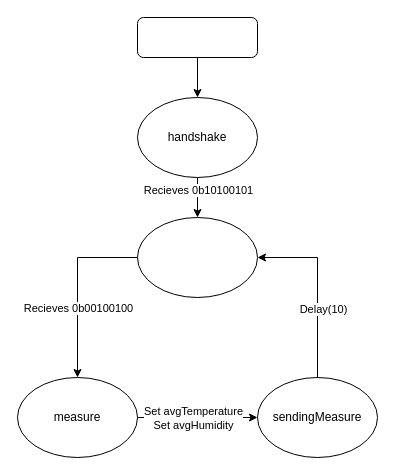
The diagram is 395 pixels wide and 475 high, and some of its shapes have lost their labels. Here are the shapes that lost their labels. From the top down, the box of each, then its label:
(136, 16, 258, 58): Start
(136, 216, 258, 298): waitingForMeasure
